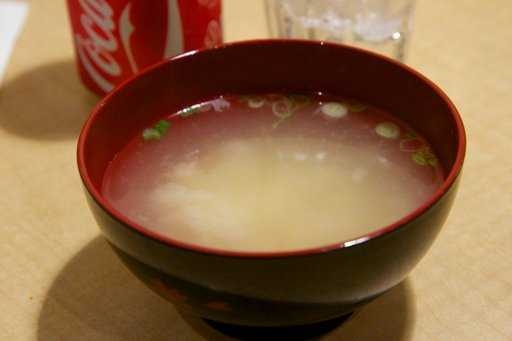soup: (95, 68, 445, 257)
